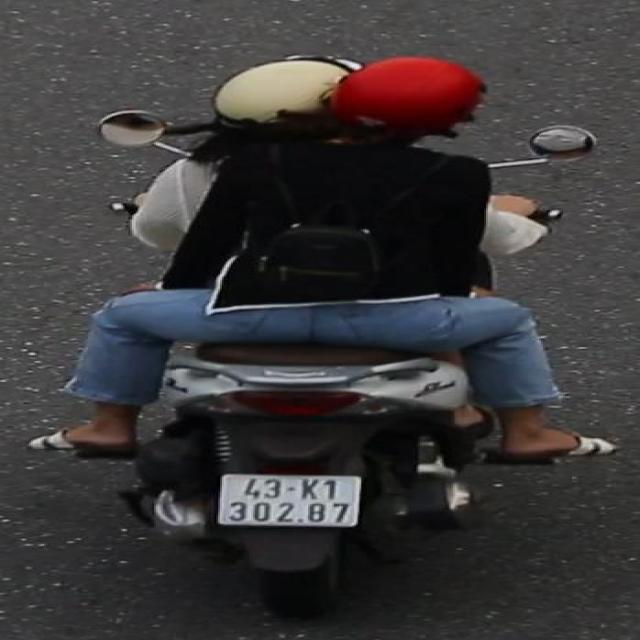LP: (212, 468, 366, 531)
helmet: (321, 51, 502, 156), (198, 54, 365, 163)
